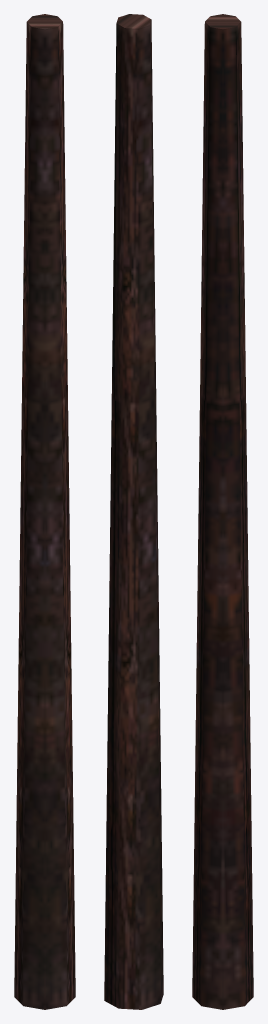
File: WindSockPost.glb
The picture shows the model from 3 angles, left to right: view 1: azimuth 90°, elevation 25°; view 2: azimuth 150°, elevation 25°; view 3: azimuth 270°, elevation 25°; orthographic projection.
Parts seen in each view (by area): view 1: WINDSOCKPOST; view 2: WINDSOCKPOST; view 3: WINDSOCKPOST.
Boxes of the visible parts, x1,y1,x2,y2 form: WINDSOCKPOST: (14, 14, 75, 1009); WINDSOCKPOST: (104, 14, 163, 1009); WINDSOCKPOST: (192, 14, 253, 1009).
Bounding box in the file's own units: 0.4 × 7 × 0.4.
1 material, 1 textured.
